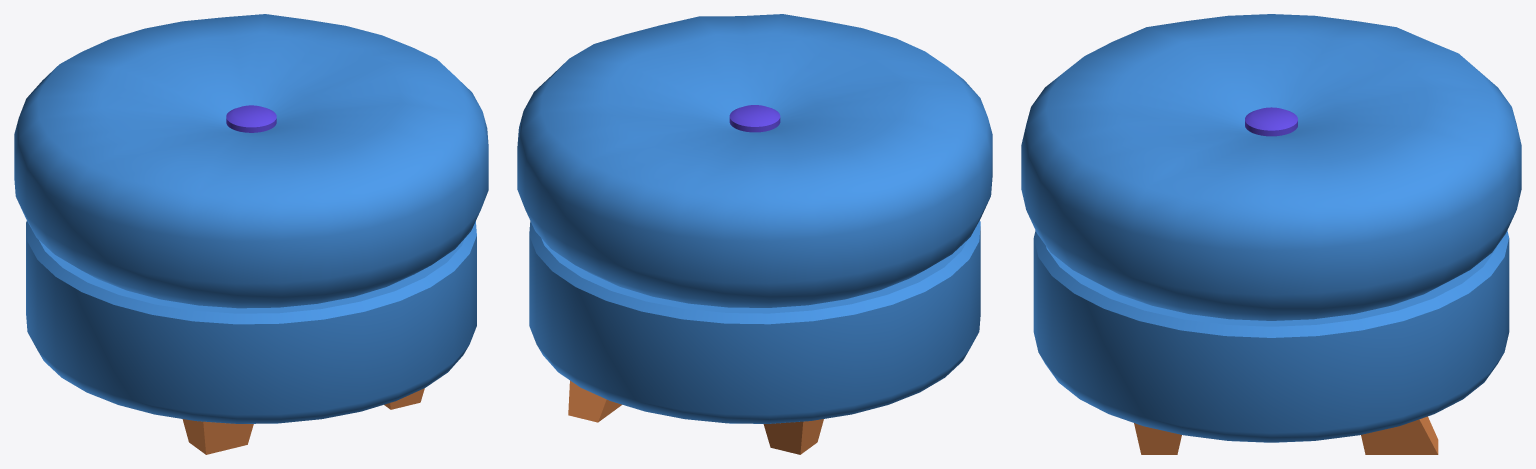
File: ottoman.fbx
3 views of the same model, side by side, from view 1: azimuth 30°, elevation 25°; view 2: azimuth 150°, elevation 25°; view 3: azimuth 270°, elevation 25° (orthographic). The views are drawn at different scales.
Parts seen in each view (by area): view 1: Ottoman; view 2: Ottoman; view 3: Ottoman.
Part boxes in pixels (bbox=[...]): Ottoman: bbox=[14, 14, 488, 454]; Ottoman: bbox=[517, 14, 992, 454]; Ottoman: bbox=[1021, 14, 1521, 454].
Size of the model in its own units: 125 by 125 by 83.14.
